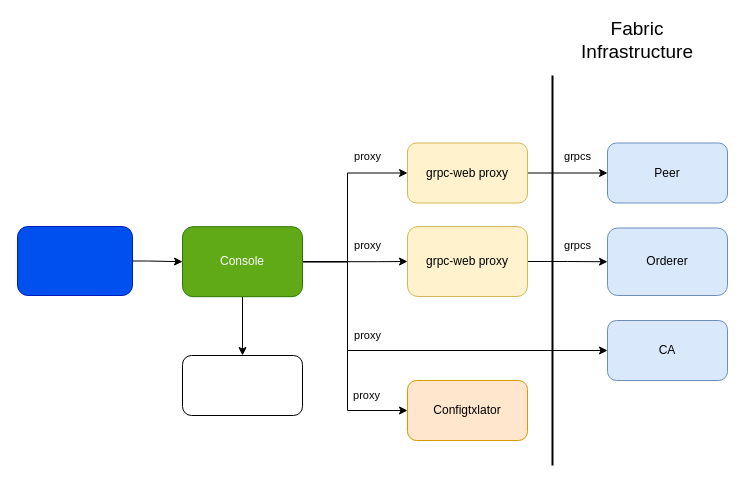
The diagram is 745 pixels wide and 483 high, and some of its shapes have lost their labels. The shapes that lost their labels are listed below. From the top down, each one's centre as x and y in pixels, then its label:
At point 74,261: "Browser".
At point 242,385: "CouchDB".
